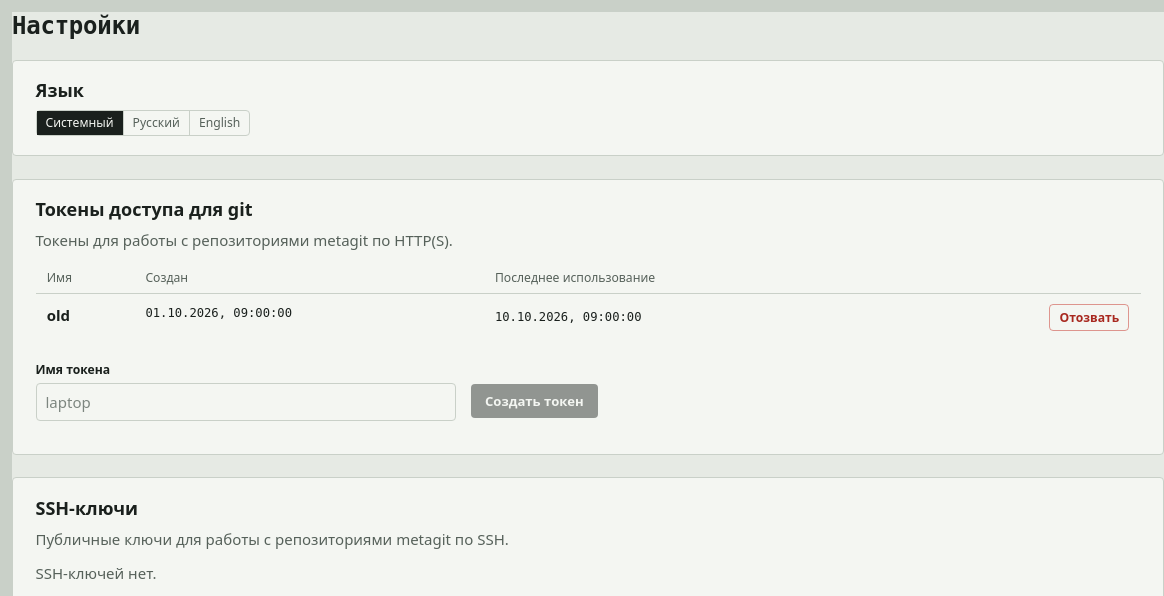
it: revoking a token sends DELETE
Click the button with aria-label "Отозвать old".
click(1089, 317)  # box [1049,304,1129,331]
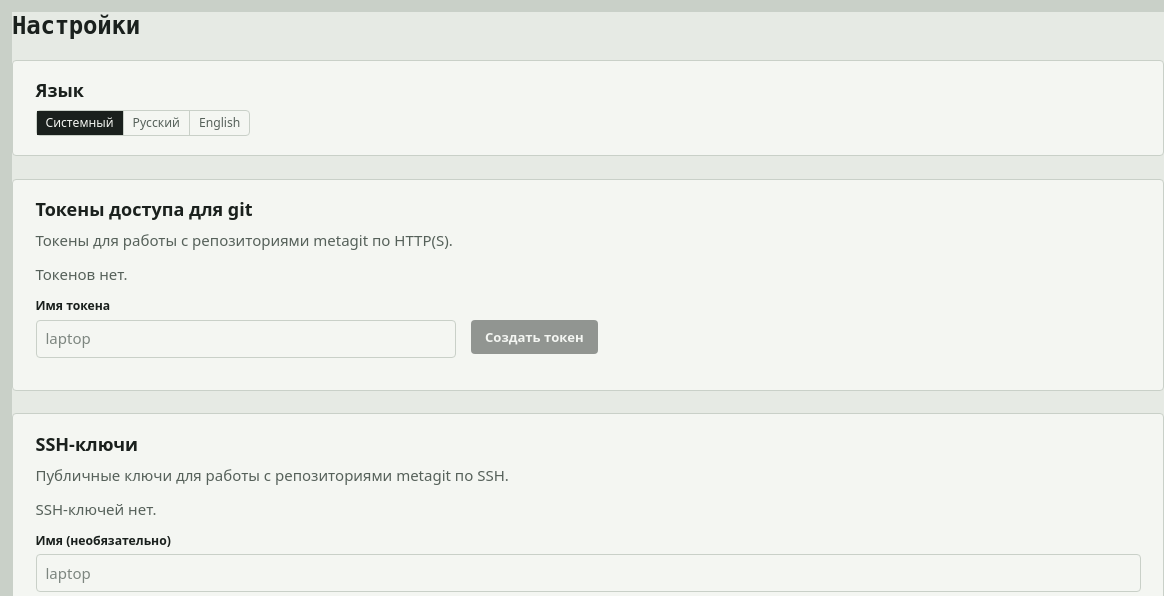
Check: the text "Токенов нет." is shown, box [36,264,128,284]
